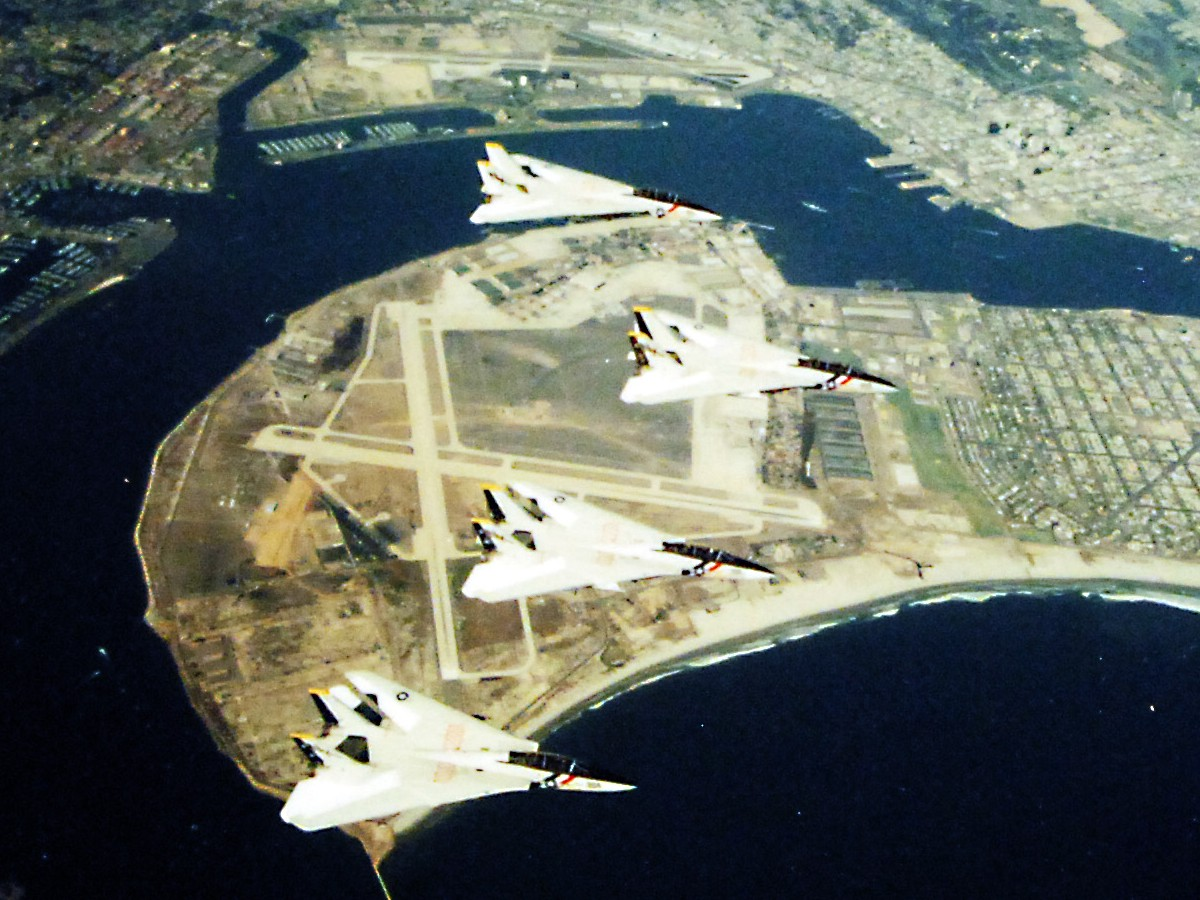F14: (278, 669, 639, 832), (460, 480, 776, 605), (619, 305, 901, 405), (468, 141, 725, 226)
